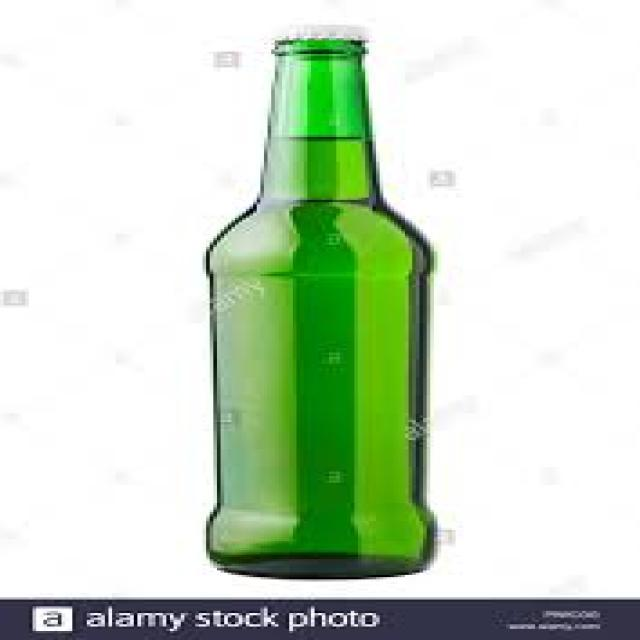glass: (199, 39, 434, 580)
metal: (268, 23, 358, 38)
